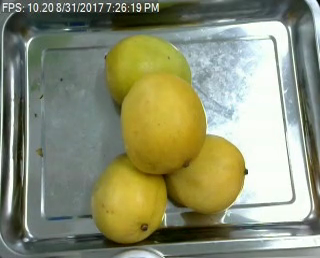Mango: (120, 77, 206, 172), (86, 156, 169, 242), (100, 32, 192, 103), (168, 134, 247, 216)
